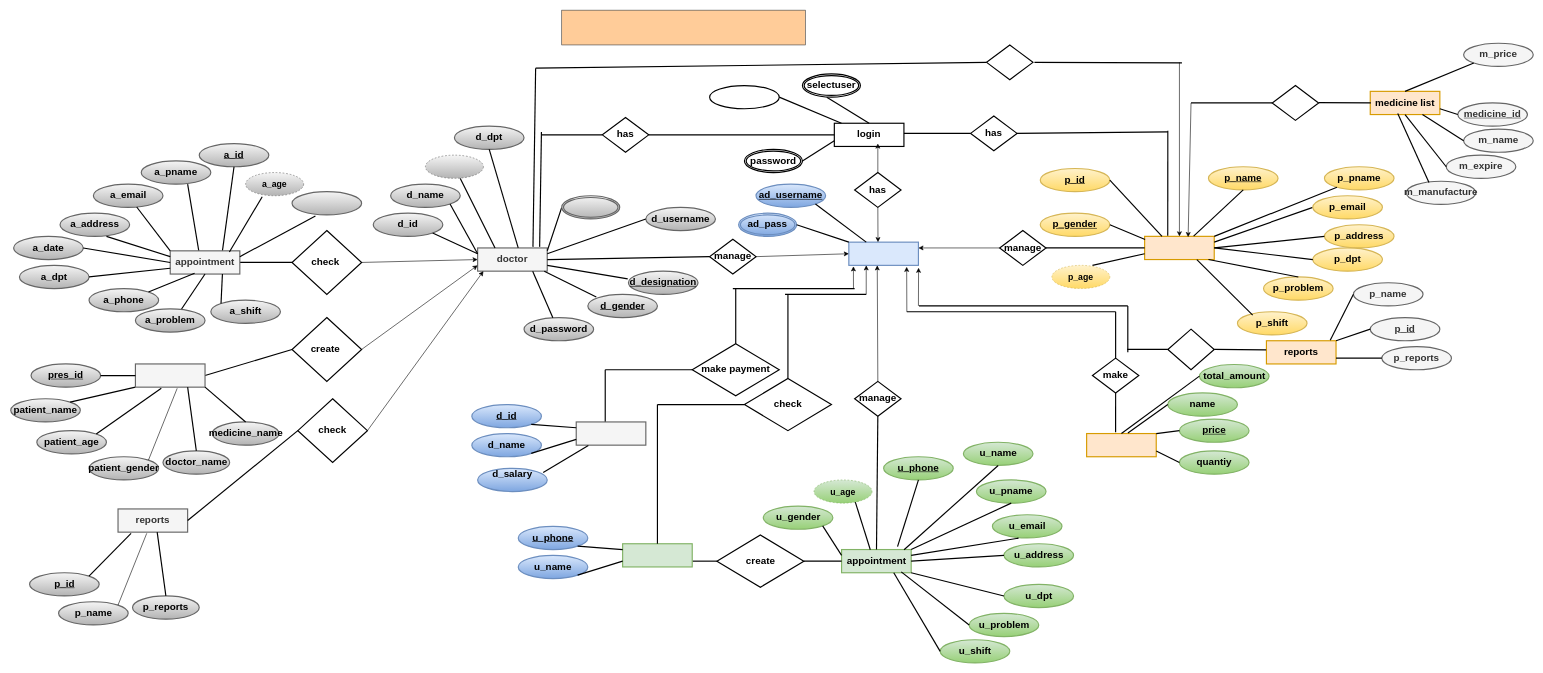
Some shapes in this 1543 by 673 pixel diagram are drawn without their labels. Here are the shapes that lost their labels. From the top down, the centre of each, then its label:
(683,27): DOCTOR APPOINTMENT SYSTEM
(1009,62): see list
(744,97): username
(1295,103): see
(454,166): d_age
(326,203): a_gender
(590,207): d_phone
(883,253): admin
(1179,247): patient
(1191,349): add
(170,375): prescription
(610,433): doctor salary
(1121,445): bills
(657,555): user
